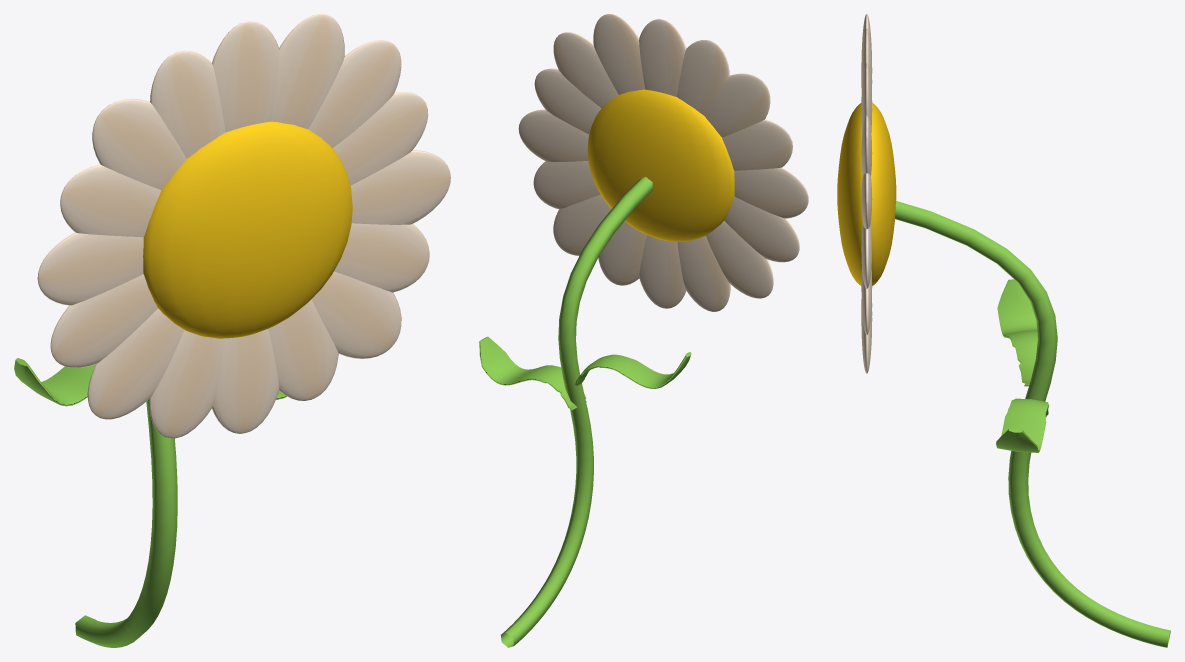
Rendered from flor.obj.
3 views of the same model, side by side, from view 1: azimuth 30°, elevation 25°; view 2: azimuth 150°, elevation 25°; view 3: azimuth 270°, elevation 25° (orthographic). The views are drawn at different scales.
Parts seen in each view (by area): view 1: pasted__group1_pasted__pSphere2 group polySurface16, group pasted__defaultBrush1Main pasted__defaultBrush1MeshGroup, pasted__group1_pasted__pSphere2 group polySurface6, pasted__group1_pasted__pSphere2 group polySurface14, pasted__group1_pasted__pSphere2 group polySurface11, pasted__group1_pasted__pSphere2 group polySurface10, pasted__group1_pasted__pSphere2 group polySurface7, pasted__group1_pasted__pSphere2 group polySurface9, pasted__group1_pasted__pSphere2 group polySurface4, pasted__group1_pasted__pSphere2 group polySurface5, pasted__group1_pasted__pSphere2 group polySurface3, pasted__group1_pasted__pSphere2 group polySurface8 (+7 smaller); view 2: pasted__group1_pasted__pSphere2 group polySurface16, group pasted__defaultBrush1Main pasted__defaultBrush1MeshGroup, pasted__group1_pasted__pSphere2 group polySurface6, pasted__group1_pasted__pSphere2 group polySurface14, pasted__group1_pasted__pSphere2 group polySurface11, pasted__group1_pasted__pSphere2 group polySurface10, pasted__group1_pasted__pSphere2 group polySurface7, pasted__group1_pasted__pSphere2 group polySurface9, pasted__group1_pasted__pSphere2 group polySurface4, pasted__group1_pasted__pSphere2 group polySurface5, pasted__group1_pasted__pSphere2 group polySurface8, polySurface12 pasted__group1_pasted__pSphere2 group (+8 smaller); view 3: group pasted__defaultBrush1Main pasted__defaultBrush1MeshGroup, pasted__group1_pasted__pSphere2 group polySurface16, group pasted__pasted__defaultBrush1Main pasted__pasted__defaultB, group pasted__pasted__pasted__defaultBrush1Main pasted__pasted__, pasted__group1_pasted__pSphere2 group polySurface8, pasted__group1_pasted__pSphere2 group polySurface4, pasted__group1_pasted__pSphere2 group polySurface14, pasted__group1_pasted__pSphere2 group polySurface15, pasted__group1_pasted__pSphere2 group polySurface13.
Boxes of the visible parts, <box> form: pasted__group1_pasted__pSphere2 group polySurface16: <box>143,121,352,338</box>; group pasted__defaultBrush1Main pasted__defaultBrush1MeshGroup: <box>75,399,177,647</box>; pasted__group1_pasted__pSphere2 group polySurface6: <box>87,308,184,419</box>; pasted__group1_pasted__pSphere2 group polySurface14: <box>270,14,344,128</box>; pasted__group1_pasted__pSphere2 group polySurface11: <box>92,98,186,189</box>; pasted__group1_pasted__pSphere2 group polySurface10: <box>37,232,143,305</box>; pasted__group1_pasted__pSphere2 group polySurface7: <box>50,274,157,367</box>; pasted__group1_pasted__pSphere2 group polySurface9: <box>212,21,279,132</box>; pasted__group1_pasted__pSphere2 group polySurface4: <box>308,40,401,147</box>; pasted__group1_pasted__pSphere2 group polySurface5: <box>150,50,225,158</box>; pasted__group1_pasted__pSphere2 group polySurface3: <box>311,271,401,358</box>; pasted__group1_pasted__pSphere2 group polySurface8: <box>350,150,450,224</box>; pasted__group1_pasted__pSphere2 group polySurface16: <box>587,89,734,241</box>; group pasted__defaultBrush1Main pasted__defaultBrush1MeshGroup: <box>501,176,652,647</box>; pasted__group1_pasted__pSphere2 group polySurface6: <box>706,221,773,298</box>; pasted__group1_pasted__pSphere2 group polySurface14: <box>593,14,645,94</box>; pasted__group1_pasted__pSphere2 group polySurface11: <box>704,73,770,137</box>; pasted__group1_pasted__pSphere2 group polySurface10: <box>734,167,808,218</box>; pasted__group1_pasted__pSphere2 group polySurface7: <box>724,196,799,262</box>; pasted__group1_pasted__pSphere2 group polySurface9: <box>639,19,686,96</box>; pasted__group1_pasted__pSphere2 group polySurface4: <box>553,32,618,107</box>; pasted__group1_pasted__pSphere2 group polySurface5: <box>677,40,729,115</box>; pasted__group1_pasted__pSphere2 group polySurface8: <box>518,109,588,161</box>; polySurface12 pasted__group1_pasted__pSphere2 group: <box>722,119,792,170</box>; group pasted__defaultBrush1Main pasted__defaultBrush1MeshGroup: <box>895,201,1170,647</box>; pasted__group1_pasted__pSphere2 group polySurface16: <box>837,103,896,285</box>; group pasted__pasted__defaultBrush1Main pasted__pasted__defaultB: <box>997,279,1037,386</box>; group pasted__pasted__pasted__defaultBrush1Main pasted__pasted__: <box>996,398,1049,452</box>; pasted__group1_pasted__pSphere2 group polySurface8: <box>861,223,872,288</box>; pasted__group1_pasted__pSphere2 group polySurface4: <box>861,115,872,176</box>; pasted__group1_pasted__pSphere2 group polySurface14: <box>861,63,872,132</box>; pasted__group1_pasted__pSphere2 group polySurface15: <box>861,173,872,229</box>; pasted__group1_pasted__pSphere2 group polySurface13: <box>861,268,872,335</box>.
Bounding box in the file's own units: 0.4995 × 0.8824 × 0.4406.
Materials: 5 (5 with a texture image).
